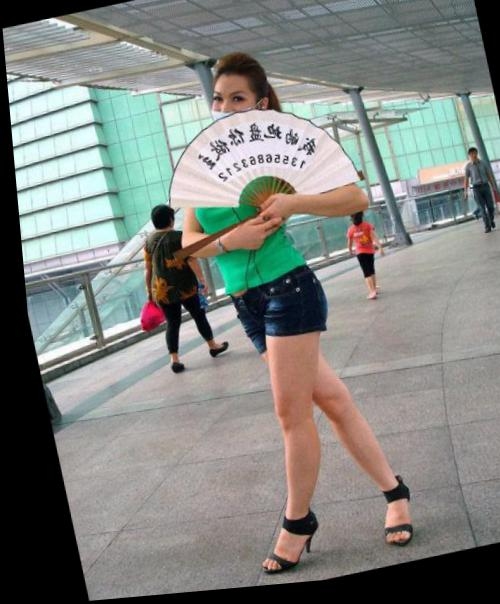WRONG: (207, 91, 256, 143)
